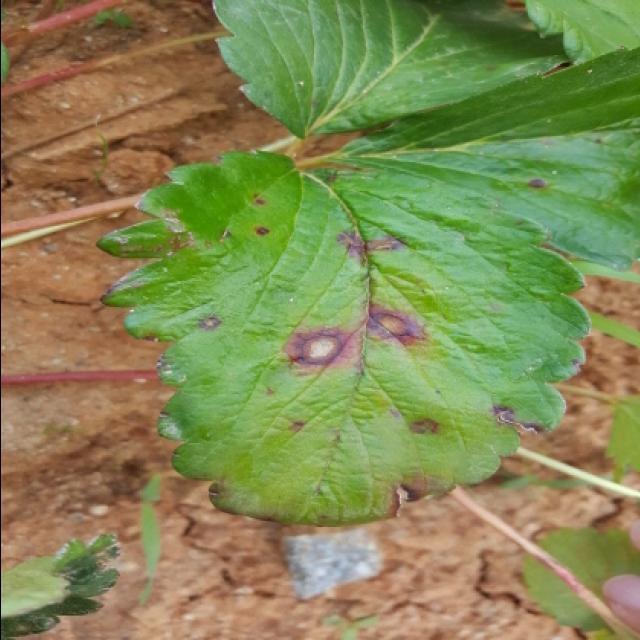Leaf Spot: (91, 149, 591, 529), (320, 46, 640, 273)
